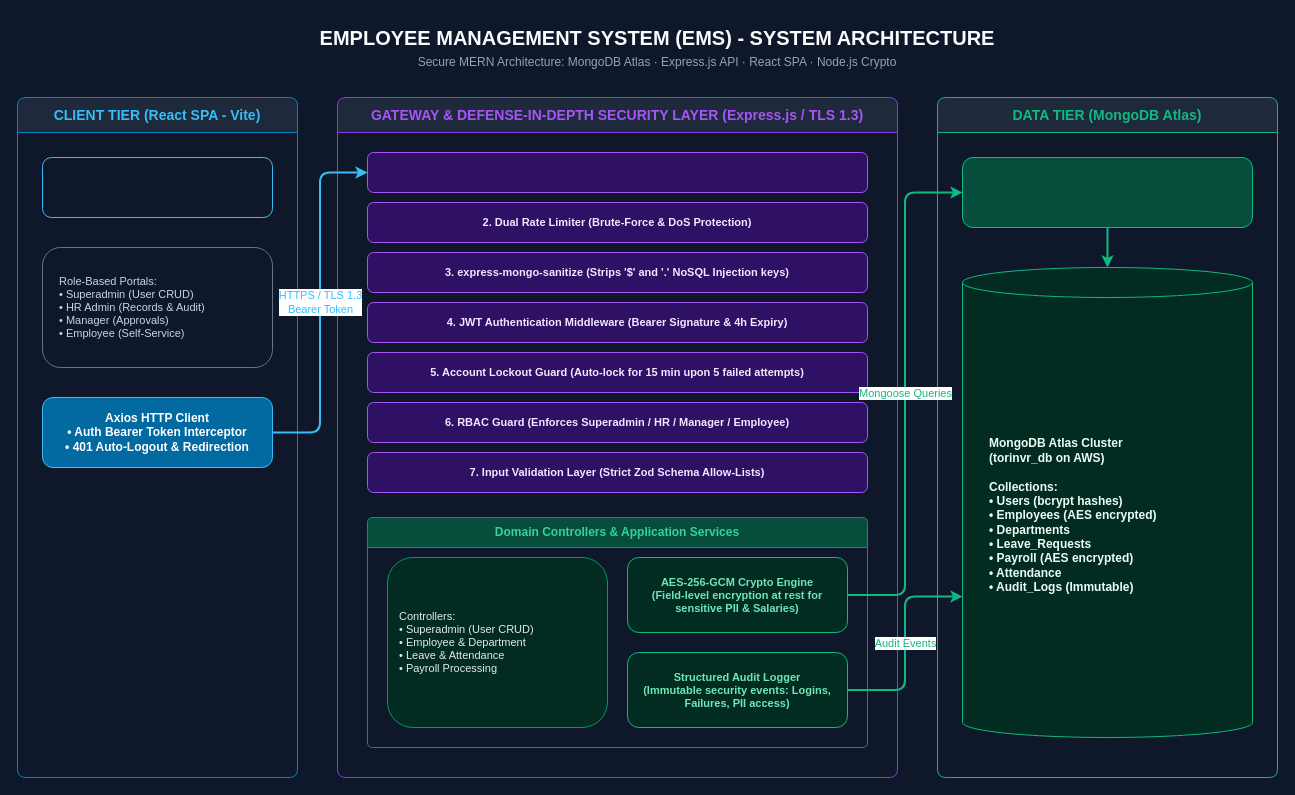
This 1295x795 diagram has some shape labels left out. Each missing label, with the centre of its shape:
"1. Helmet Security Headers (CSP, HSTS, X-Frame-Options)" belongs at point 617,172.
"Cyber Themed Modern UI (Dark Glassmorphic Aesthetic)" belongs at point 157,187.
"Typed Mongoose ODM Strict Schema Types, ObjectId Refs Injection Prevention" belongs at point 1107,192.
